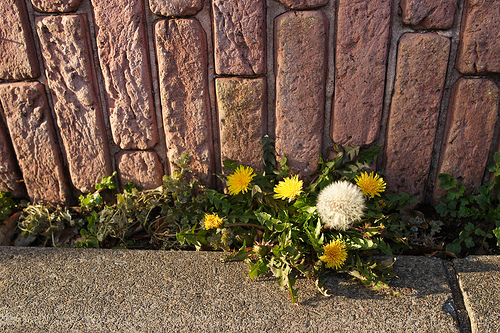dandelion white: (312, 179, 368, 230)
dandelion yellow: (350, 169, 386, 201), (222, 164, 257, 196), (318, 240, 349, 270), (272, 174, 304, 203), (204, 212, 228, 233)
